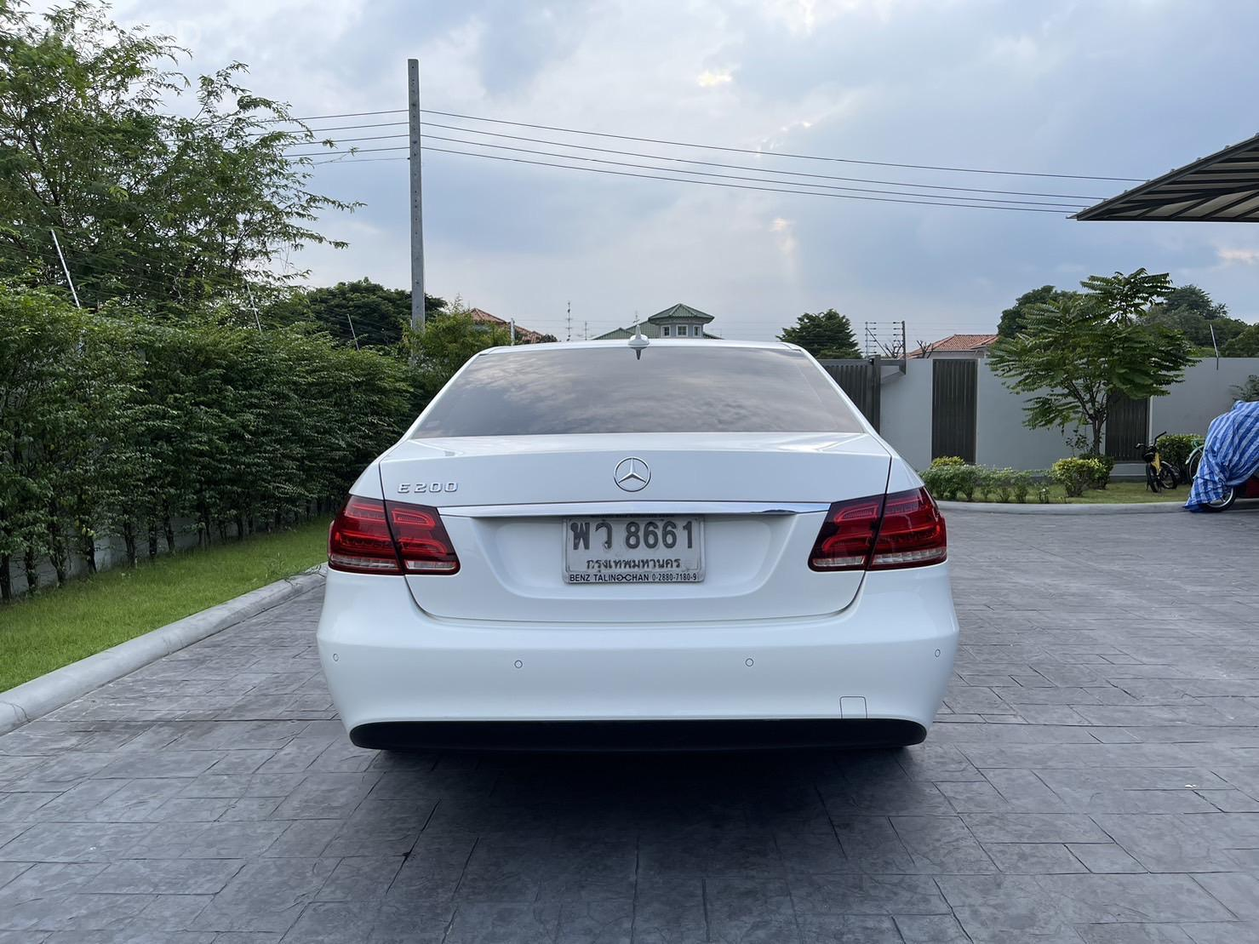license-plate: (564, 506, 705, 586)
